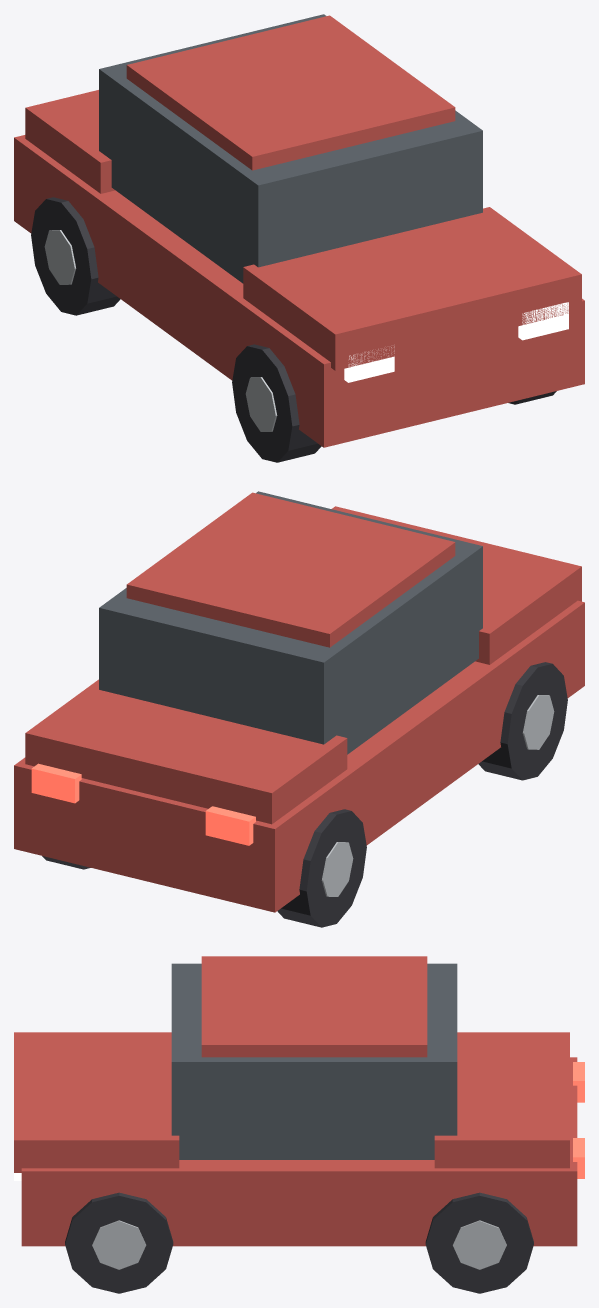
File: car_red.glb
The picture shows the model from 3 angles, top to bottom: view 1: azimuth 30°, elevation 25°; view 2: azimuth 150°, elevation 25°; view 3: azimuth 270°, elevation 25°; orthographic projection. The views are drawn at different scales.
Parts seen in each view (by area): view 1: car_red; view 2: car_red; view 3: car_red.
Part boxes in pixels (box(x1,y1,x2,y2)): car_red: box(14, 14, 584, 462); car_red: box(14, 491, 584, 927); car_red: box(14, 956, 584, 1293).
Size of the model in its own units: 1.92 by 1.71 by 3.8.
